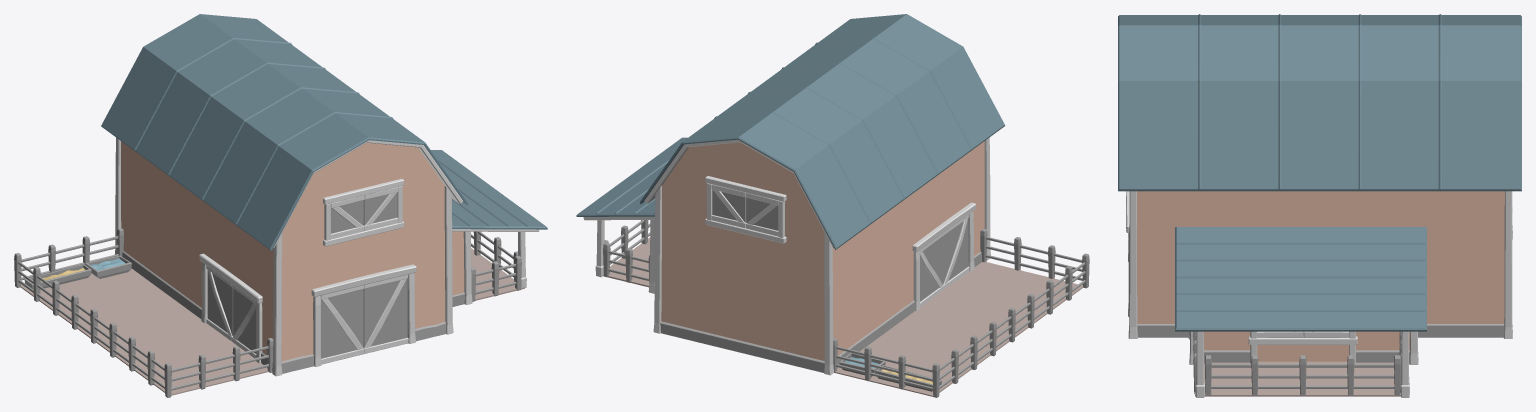
File: fp_barn_double.glb
The picture shows the model from 3 angles, left to right: view 1: azimuth 30°, elevation 25°; view 2: azimuth 150°, elevation 25°; view 3: azimuth 270°, elevation 25°; orthographic projection. The views are drawn at different scales.
Size of the model in its own units: 2.2 by 1.18 by 1.64.
